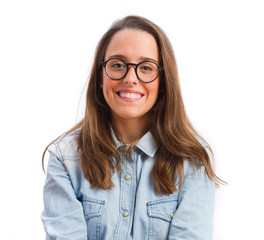young: (95, 16, 188, 139)
